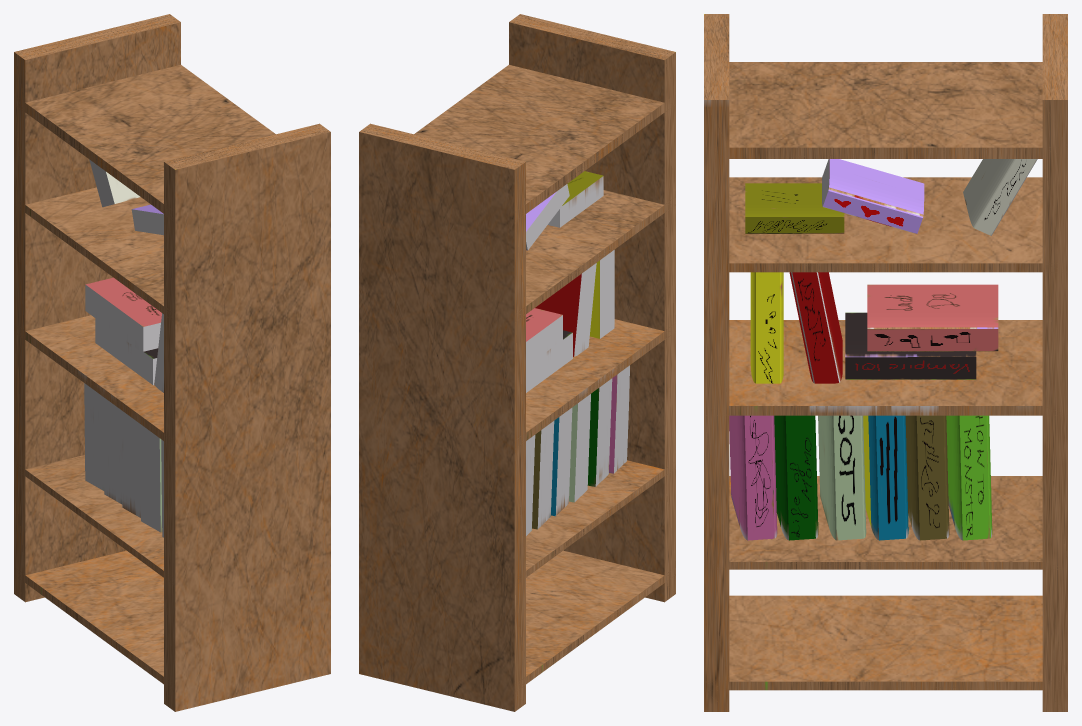
The model's file is BücherRegal.fbx.
3 views of the same model, side by side, from view 1: azimuth 30°, elevation 25°; view 2: azimuth 150°, elevation 25°; view 3: azimuth 270°, elevation 25° (orthographic). The views are drawn at different scales.
Parts seen in each view (by area): view 1: Cube.001; view 2: Cube.001; view 3: Cube.001.
Boxes of the visible parts, box(x1,y1,x2,y2) form: Cube.001: box(14, 14, 330, 711); Cube.001: box(359, 14, 675, 711); Cube.001: box(704, 14, 1067, 711).
Size of the model in its own units: 60.14 by 200 by 108.
